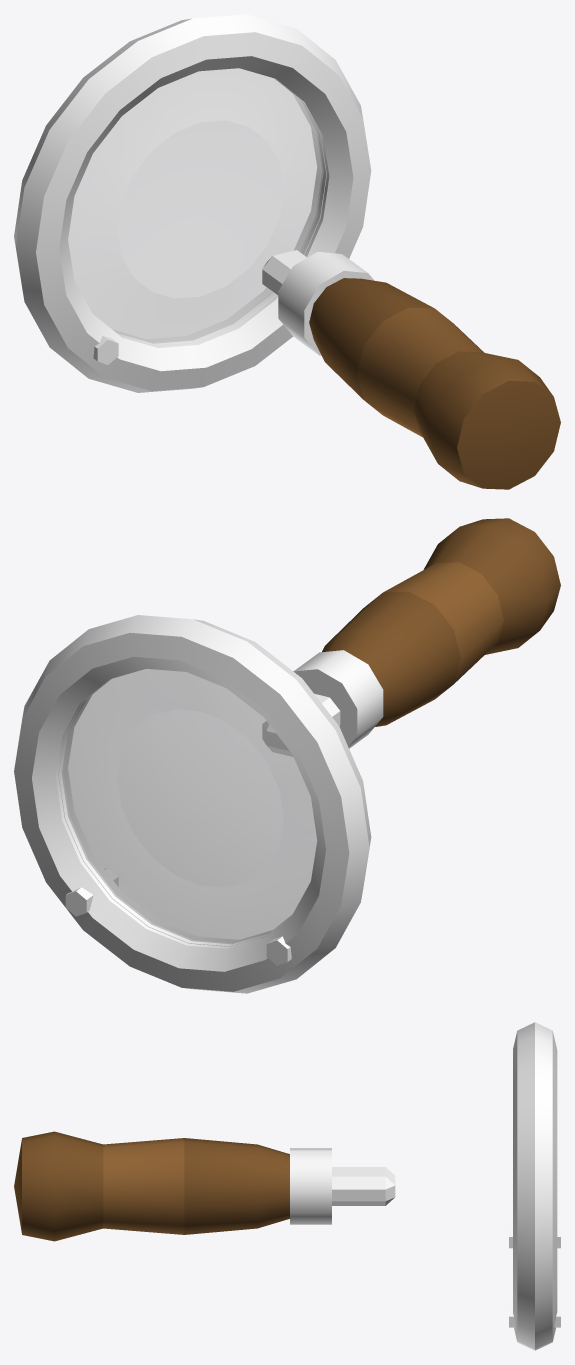
The model's file is magnifier.glb.
The picture shows the model from 3 angles, top to bottom: view 1: azimuth 30°, elevation 25°; view 2: azimuth 150°, elevation 25°; view 3: azimuth 270°, elevation 25°; orthographic projection. The views are drawn at different scales.
Visible parts, largest first — view 1: Magnifier; view 2: Magnifier; view 3: Magnifier.
Part boxes in pixels (x1,y1,x2,y2): Magnifier: [14, 14, 560, 489]; Magnifier: [14, 518, 560, 993]; Magnifier: [14, 1022, 560, 1350].
Bounding box in the file's own units: 0.204 × 0.204 × 0.337.
